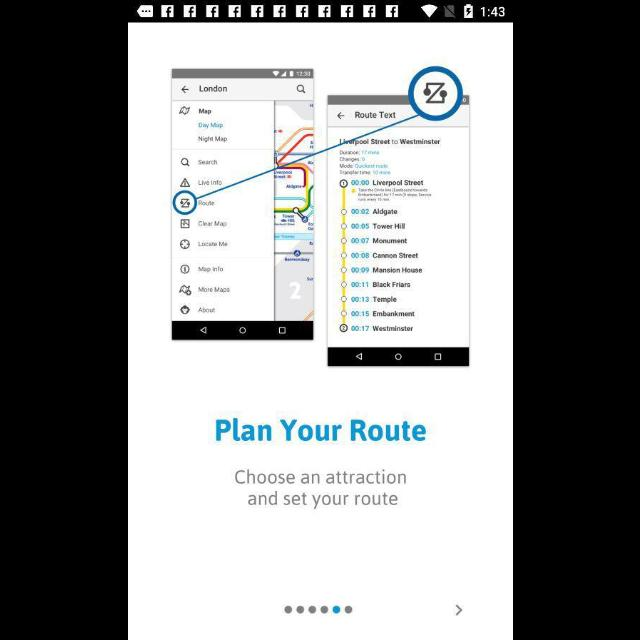icon: (452, 602, 462, 618)
image: (171, 66, 469, 368)
pageindicator: (284, 606, 352, 614)
text: (234, 469, 406, 509), (214, 418, 426, 442)
uppertaskbar: (128, 1, 512, 23)
